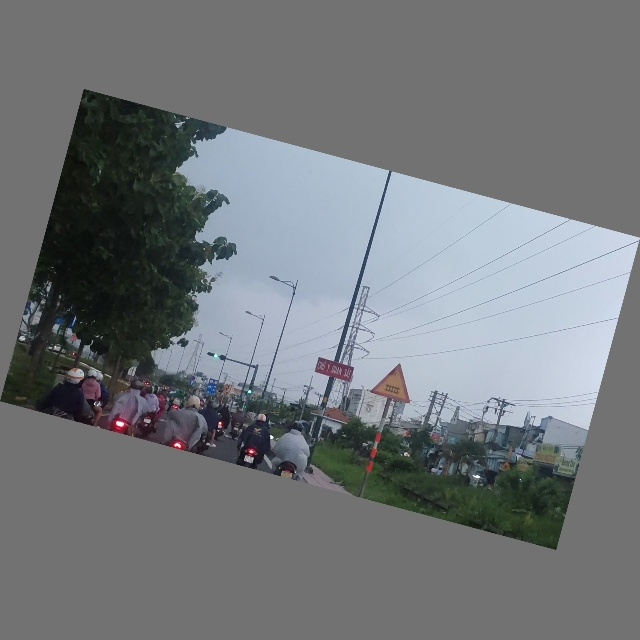W.210: (371, 359, 420, 405)
